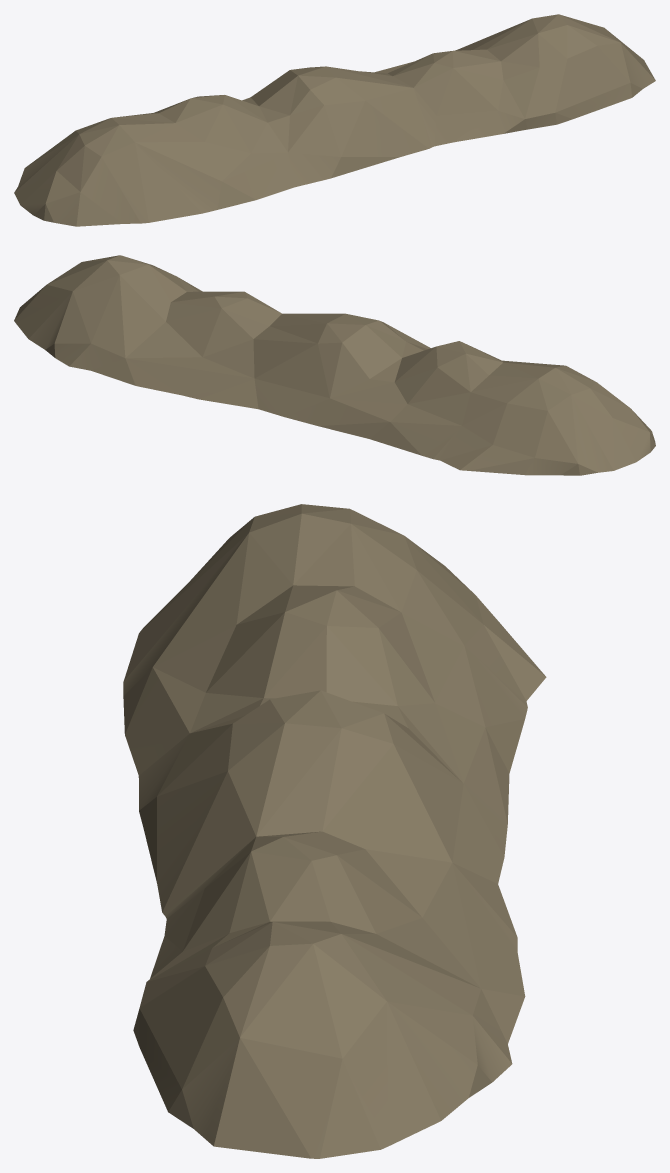
Rendered from farmland1.fbx.
3 views of the same model, one above another, from view 1: azimuth 30°, elevation 25°; view 2: azimuth 150°, elevation 25°; view 3: azimuth 270°, elevation 25° (orthographic). The views are drawn at different scales.
Visible parts, largest first — view 1: farmland1; view 2: farmland1; view 3: farmland1.
Part boxes in pixels (x1,y1,x2,y2): farmland1: (14, 14, 655, 226); farmland1: (14, 255, 655, 475); farmland1: (123, 504, 546, 1158).
Bounding box in the file's own units: 216 × 22.2 × 64.02.
